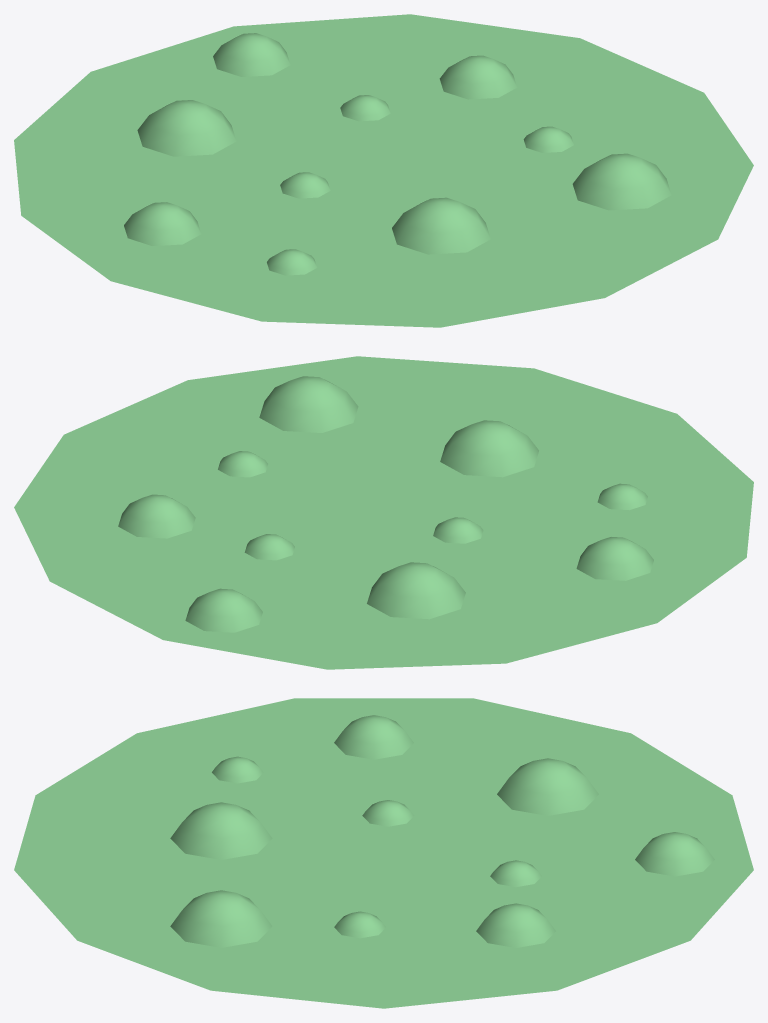
File: Liquid_exp.fbx
The picture shows the model from 3 angles, top to bottom: view 1: azimuth 30°, elevation 25°; view 2: azimuth 150°, elevation 25°; view 3: azimuth 270°, elevation 25°; orthographic projection.
Visible parts, largest first — view 1: pCylinder1, pSphere11; view 2: pCylinder1, pSphere11; view 3: pCylinder1, pSphere11.
Boxes of the visible parts, x1,y1,x2,y2 form: pCylinder1: [14, 14, 753, 327]; pSphere11: [124, 33, 671, 275]; pCylinder1: [14, 356, 753, 669]; pSphere11: [118, 376, 653, 632]; pCylinder1: [14, 698, 753, 1008]; pSphere11: [170, 715, 714, 947].
Bounding box in the file's own units: 2.14 × 0.1253 × 2.15.
